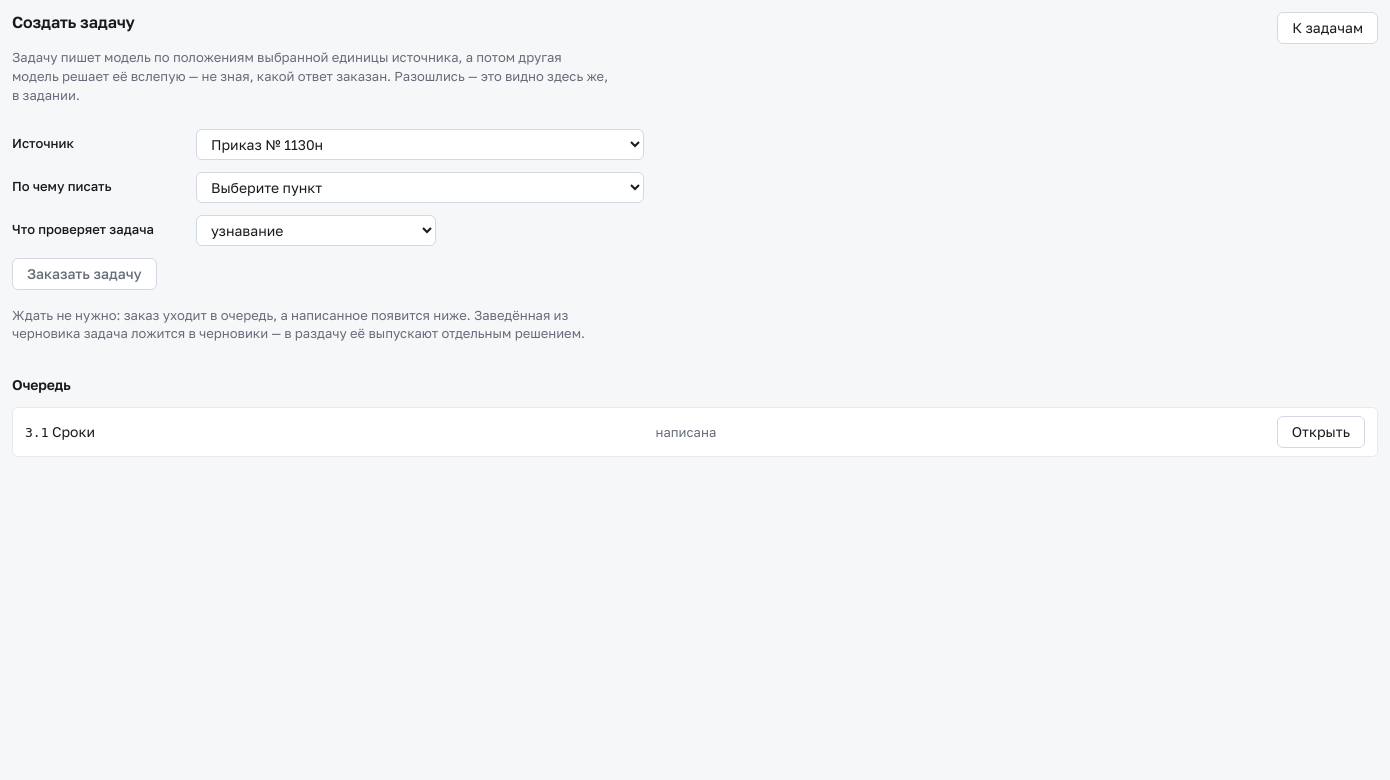
Scenario: страница заказа задачи › без права правки задач принять черновик не предлагается
This screenshot has width=1390, height=780.
Click the button "Открыть" at coordinates (1321, 432), box [1277,416,1365,448]
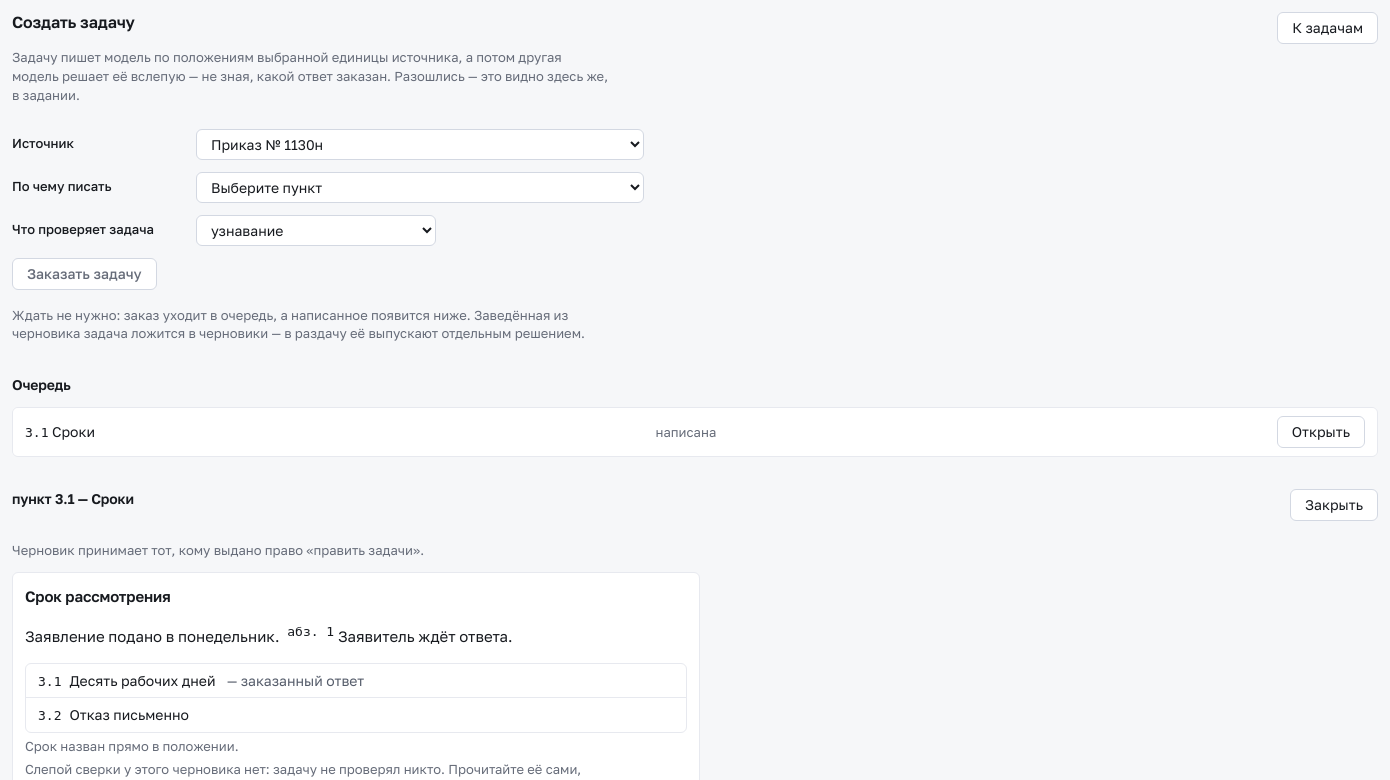
expect the text "Черновик принимает тот, кому выдано право «править задачи»." is shown: met, box [12,542,424,558]
